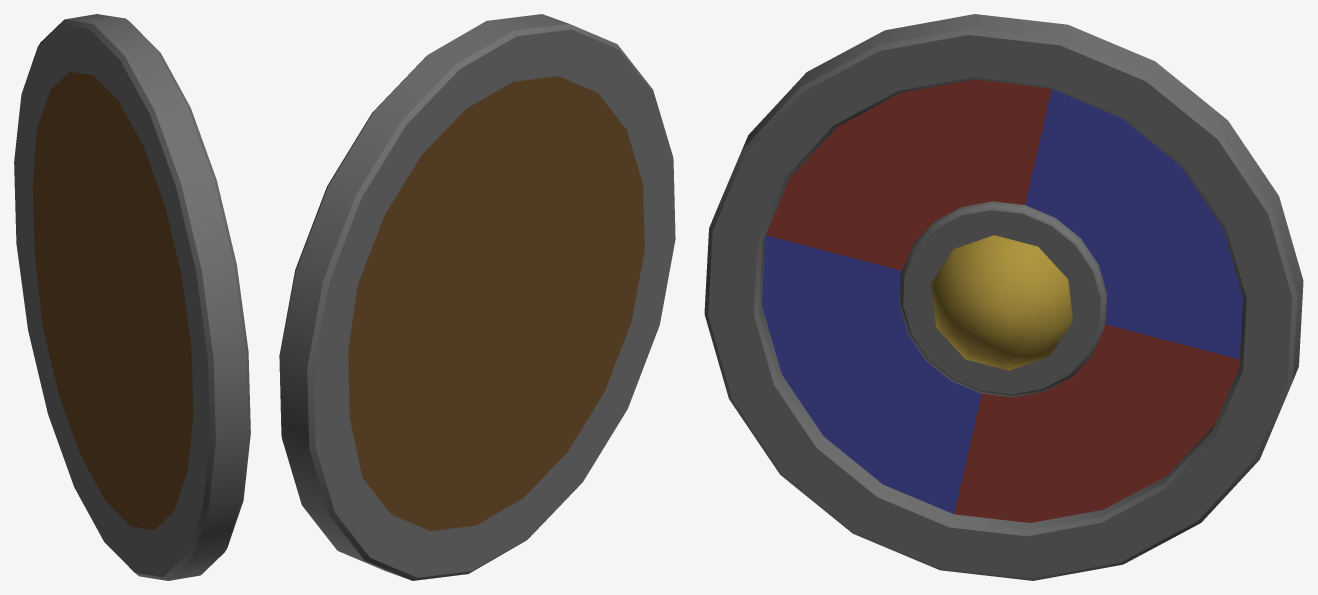
Rendered from Shield.fbx.
3 views of the same model, side by side, from view 1: azimuth 30°, elevation 25°; view 2: azimuth 150°, elevation 25°; view 3: azimuth 270°, elevation 25° (orthographic). The views are drawn at different scales.
Visible parts, largest first — view 1: pSphere5; view 2: pSphere5; view 3: pSphere5.
Part boxes in pixels (x1,y1,x2,y2): pSphere5: [14, 14, 250, 580]; pSphere5: [279, 14, 675, 580]; pSphere5: [704, 14, 1303, 580].
Size of the model in its own units: 0.3428 by 1.44 by 1.43.
